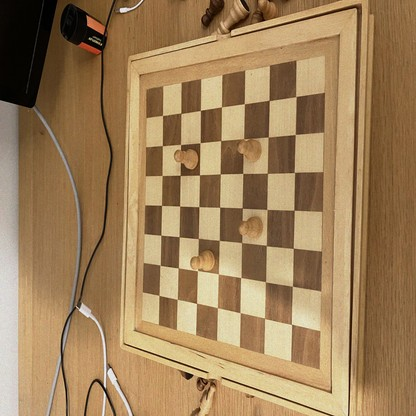bishop_white: (198, 386, 216, 416)
pawn_black: (203, 0, 223, 25)
pawn_white: (239, 217, 263, 240), (190, 250, 215, 271), (174, 148, 198, 168), (239, 139, 261, 160), (259, 0, 278, 19)
